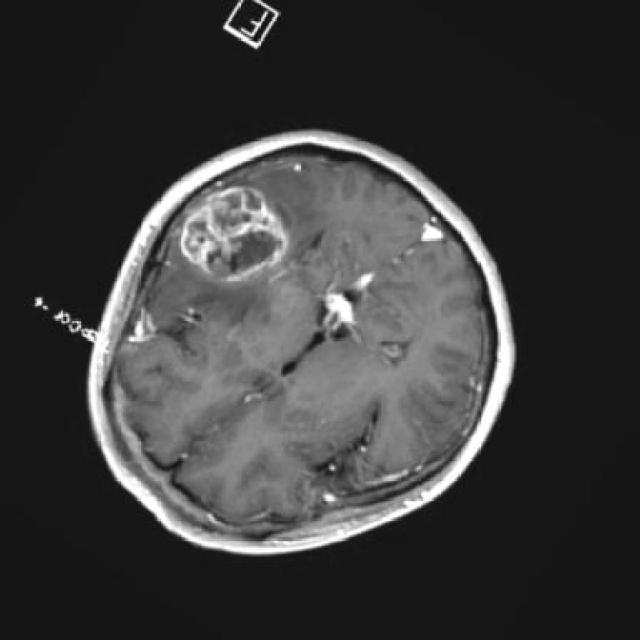Brain-Tumor: (173, 174, 308, 284)
